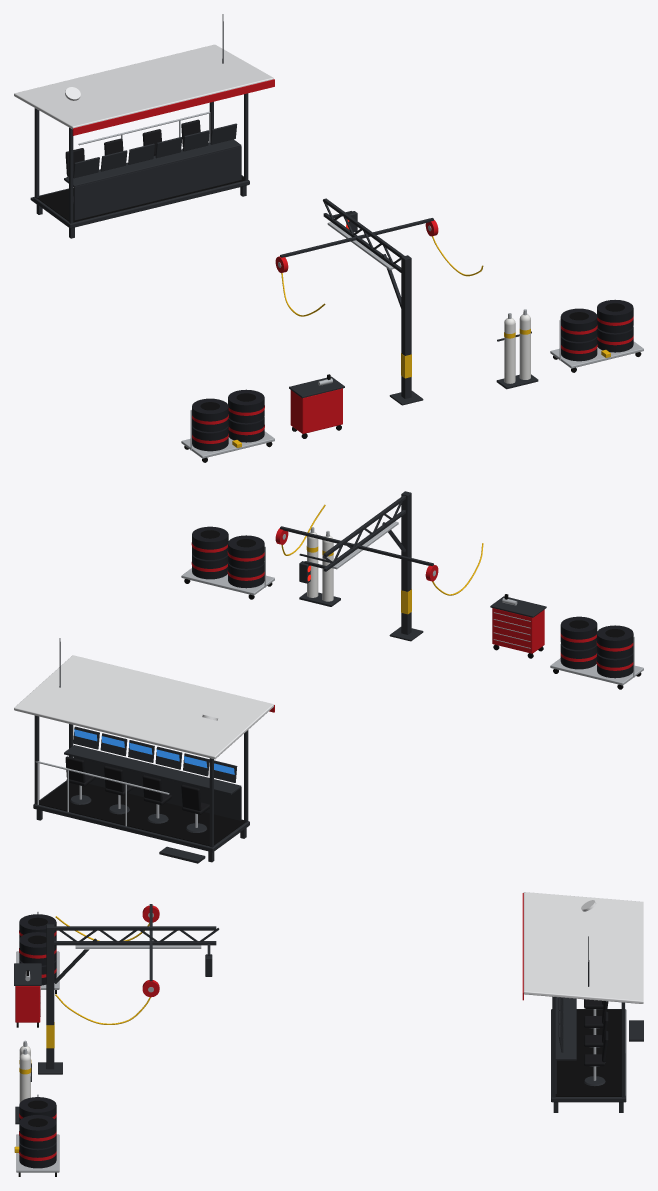
File: pitkit.glb
3 renders of one model, top to bottom at view 1: azimuth 30°, elevation 25°; view 2: azimuth 150°, elevation 25°; view 3: azimuth 270°, elevation 25°, orthographic.
Parts seen in each view (by area): view 1: Тент, Передняя панель пульта, Инструментальная тележка, Кромка тента, Стол пульта, Помост, Стойка консоли, Настил помоста, Шина в грелке правый 2, Шина в грелке левый 2, Шина в грелке правый 4, Шина в грелке левый 4 (+8 smaller); view 2: Тент, Настил помоста, Передняя панель пульта, Стол пульта, Инструментальная тележка, Помост, Стойка консоли, Шина в грелке левый 4, Шина в грелке правый 2, Шина в грелке левый 2, Шина в грелке правый 4, Тележка шин левый (+8 smaller); view 3: Тент, Настил помоста, Стол пульта, Стойка консоли, Инструментальная тележка, Шина в грелке правый 4, Помост, Пояс фермы верхний, Пояс фермы нижний, Шина в грелке левый 4, Шина в грелке правый 3, Столешница тележки (+5 smaller).
Part boxes in pixels (x1=…): Тент: x1=14, y1=44, x2=273, y2=129; Передняя панель пульта: x1=73, y1=146, x2=241, y2=220; Инструментальная тележка: x1=290, y1=388, x2=342, y2=433; Кромка тента: x1=72, y1=79, x2=274, y2=135; Стол пульта: x1=64, y1=139, x2=241, y2=186; Помост: x1=33, y1=175, x2=249, y2=228; Стойка консоли: x1=401, y1=255, x2=411, y2=398; Настил помоста: x1=37, y1=176, x2=244, y2=222; Шина в грелке правый 2: x1=560, y1=308, x2=597, y2=341; Шина в грелке левый 2: x1=192, y1=398, x2=228, y2=431; Шина в грелке правый 4: x1=597, y1=299, x2=633, y2=333; Шина в грелке левый 4: x1=228, y1=389, x2=264, y2=423; Тент: x1=14, y1=655, x2=273, y2=759; Настил помоста: x1=39, y1=781, x2=245, y2=846; Передняя панель пульта: x1=73, y1=757, x2=241, y2=820; Стол пульта: x1=64, y1=745, x2=241, y2=794; Инструментальная тележка: x1=492, y1=608, x2=544, y2=653; Помост: x1=33, y1=780, x2=249, y2=852; Стойка консоли: x1=401, y1=491, x2=411, y2=634; Шина в грелке левый 4: x1=560, y1=616, x2=597, y2=649; Шина в грелке правый 2: x1=228, y1=535, x2=264, y2=568; Шина в грелке левый 2: x1=597, y1=625, x2=633, y2=658; Шина в грелке правый 4: x1=192, y1=526, x2=228, y2=559; Тележка шин левый: x1=550, y1=658, x2=643, y2=685; Тент: x1=523, y1=892, x2=643, y2=1003; Настил помоста: x1=555, y1=1009, x2=621, y2=1096; Стол пульта: x1=555, y1=997, x2=576, y2=1060; Стойка консоли: x1=46, y1=924, x2=54, y2=1069; Инструментальная тележка: x1=15, y1=986, x2=40, y2=1022; Шина в грелке правый 4: x1=19, y1=1115, x2=56, y2=1148; Помост: x1=551, y1=1009, x2=626, y2=1102; Пояс фермы верхний: x1=54, y1=926, x2=216, y2=930; Пояс фермы нижний: x1=54, y1=941, x2=216, y2=945; Шина в грелке левый 4: x1=19, y1=932, x2=56, y2=965; Шина в грелке правый 3: x1=19, y1=1142, x2=56, y2=1168; Столешница тележки: x1=14, y1=963, x2=41, y2=985.
Size of the model in its own units: 10.32 by 3.8 by 12.53.
